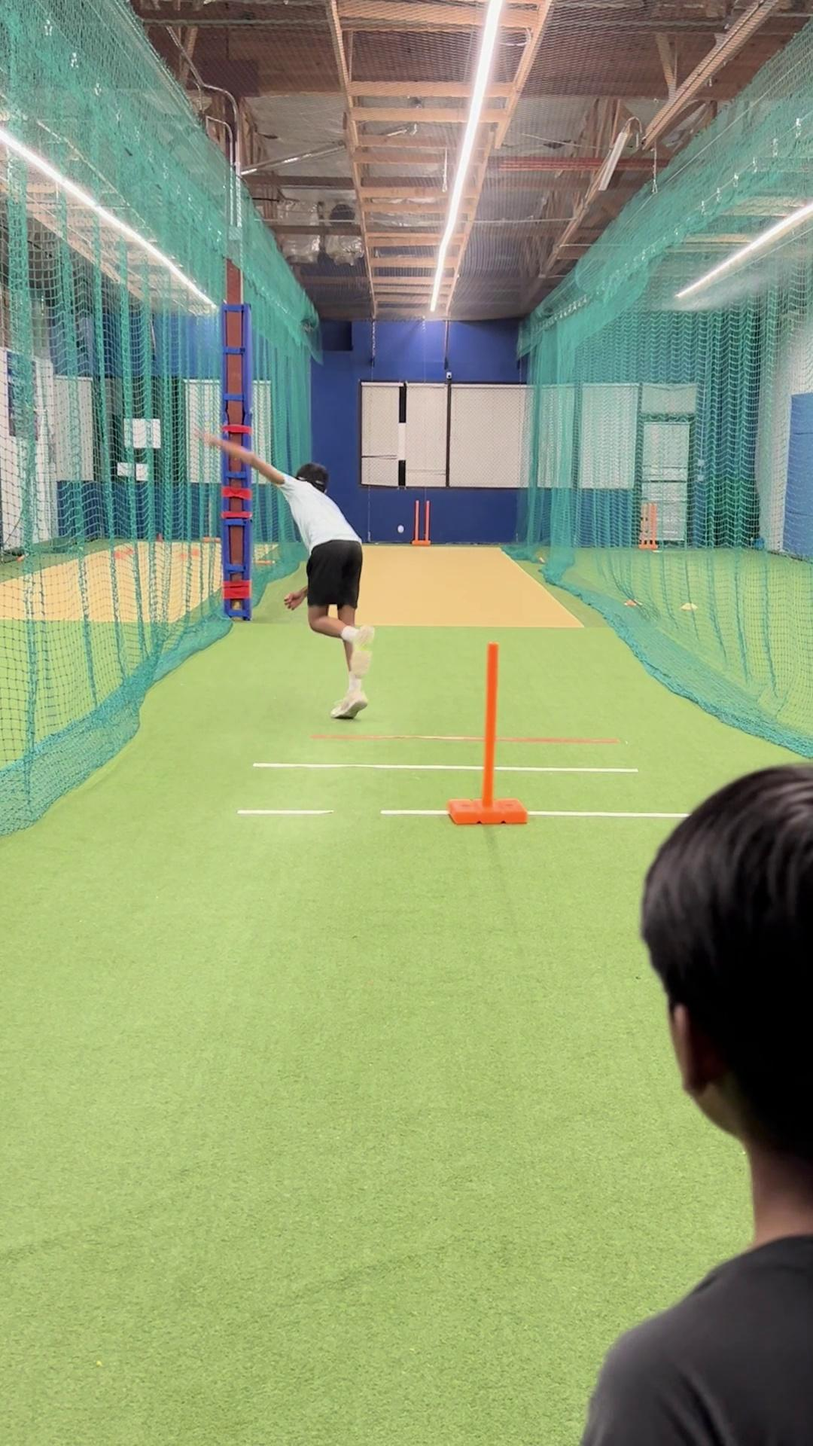ball: (395, 522, 409, 535)
